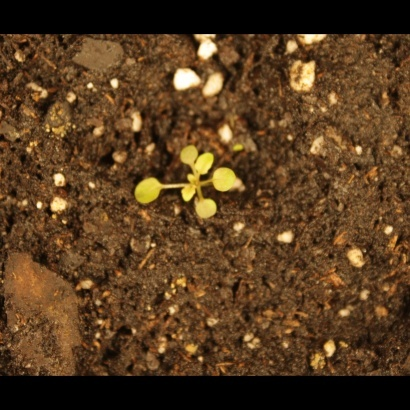leaf: (127, 174, 165, 209), (211, 166, 239, 196), (194, 198, 222, 226), (193, 150, 216, 176), (177, 142, 202, 165), (180, 182, 203, 205)
